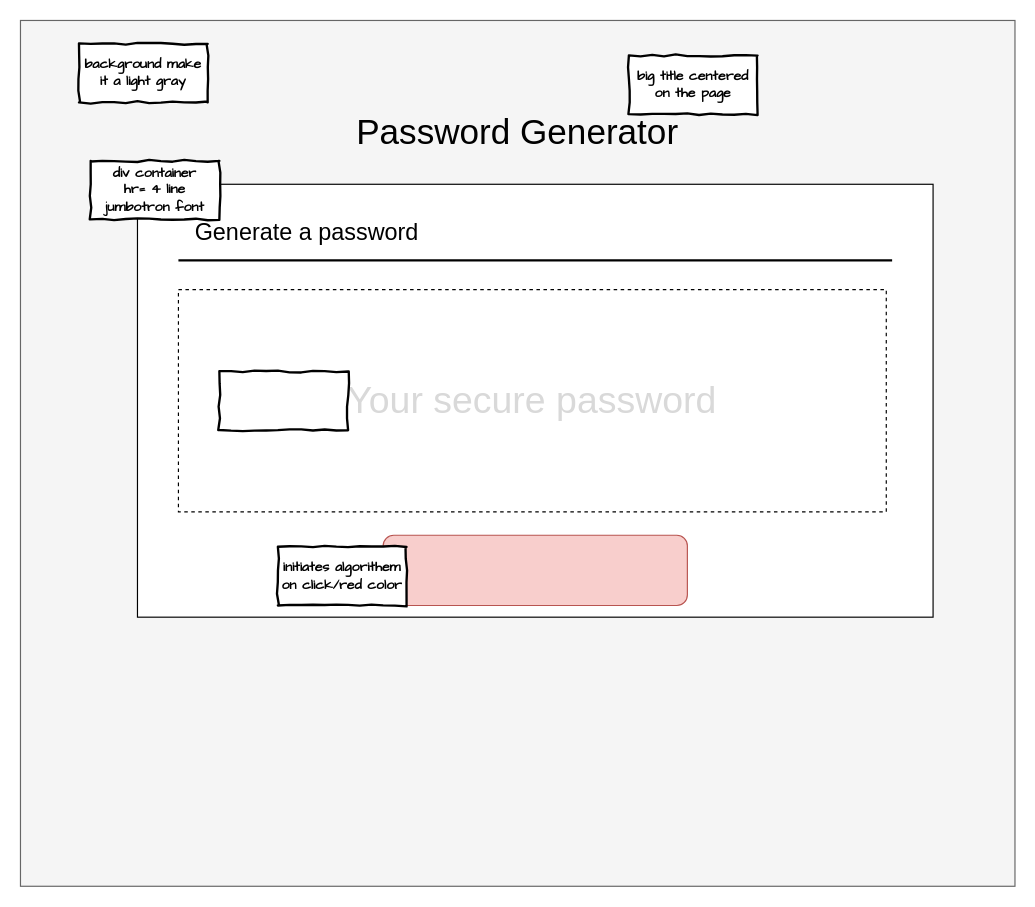
Some shapes in this 1035 by 907 pixel diagram are drawn without their labels. Here are the shapes that lost their labels. From the top down, the centre of each, then its label:
At point (283, 400): "font inside the box needs to be light gray".
At point (534, 569): "Generate Password".
